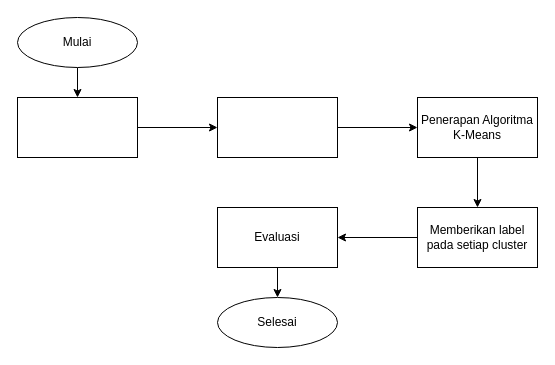
Image size: 555x365. Some labels were removed from this diagram. The centre of each missing label's shape, as x and y in pixels:
"Normalisasi" goes at (277,127).
"Pengumpulan Dataset" goes at (77,127).
